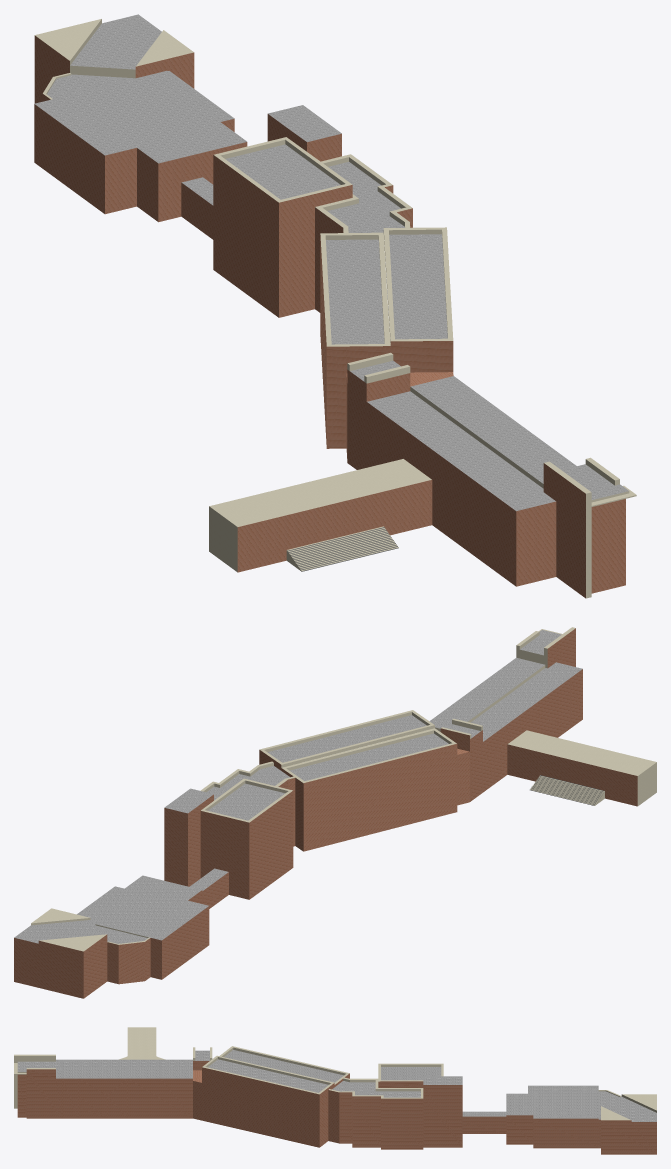
3 renders of one model, top to bottom at view 1: azimuth 30°, elevation 25°; view 2: azimuth 150°, elevation 25°; view 3: azimuth 270°, elevation 25°, orthographic. The views are drawn at different scales.
Bounding box in the file's own units: 97.81 × 27.14 × 253.
Materials: 7 (3 with a texture image).
